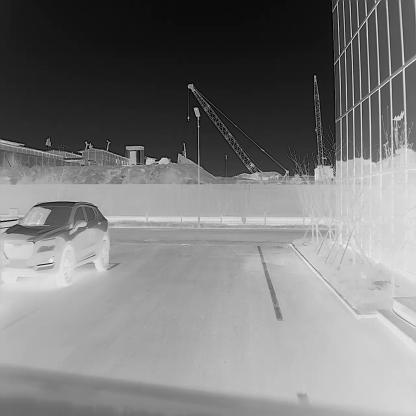car: (2, 199, 109, 287)
